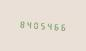eight: (17, 18, 23, 29)
five: (38, 19, 44, 31)
four: (24, 18, 30, 30), (45, 20, 51, 31)
six: (52, 20, 58, 32), (59, 21, 65, 32)
zero: (31, 19, 37, 30)
